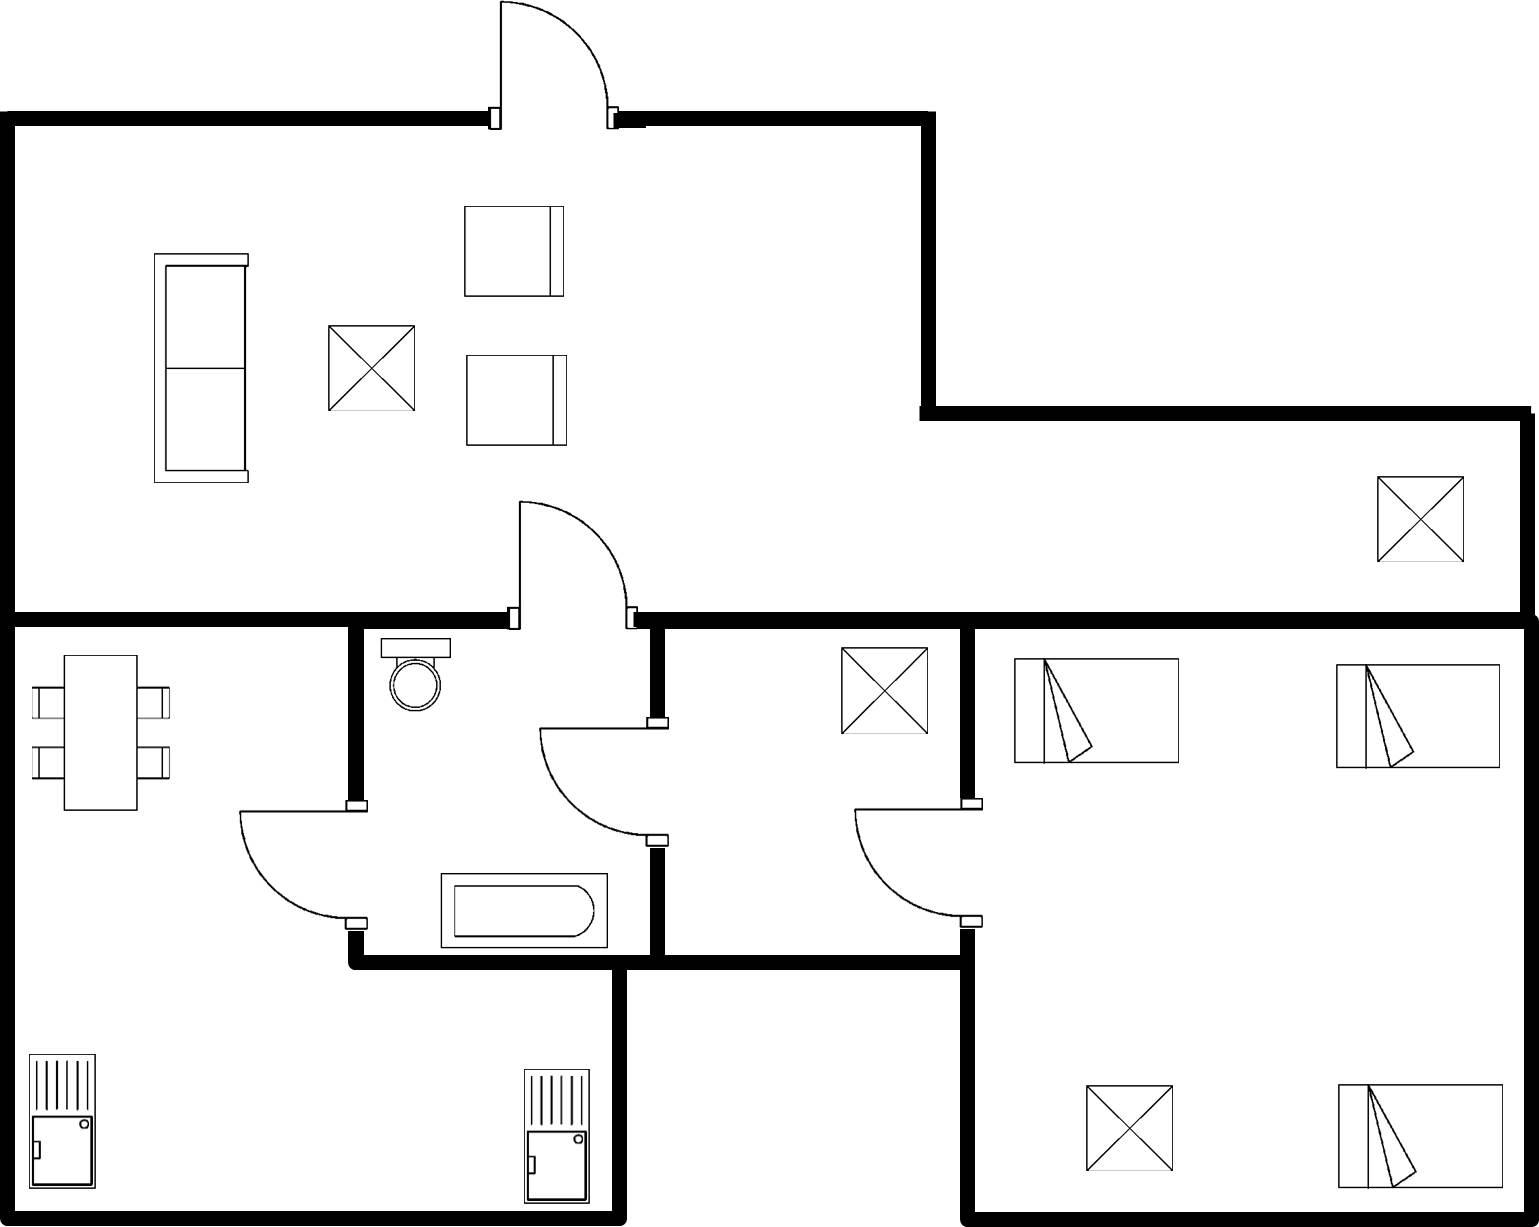bed: (1001, 646, 1192, 778), (1327, 1065, 1513, 1196), (1321, 654, 1509, 778)
dining_table: (25, 646, 177, 819)
sink: (21, 1042, 106, 1197), (515, 1058, 600, 1211)
sofa: (145, 248, 255, 493)
toilet: (372, 630, 465, 721)
tub: (431, 861, 619, 949)
